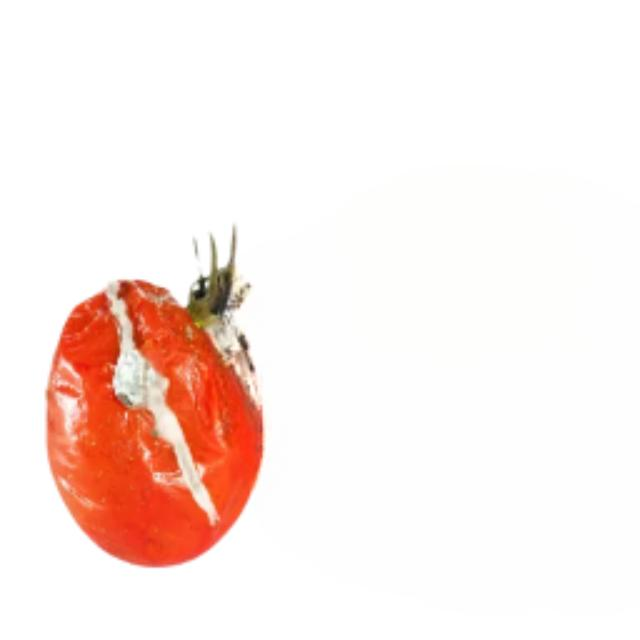defect: (40, 262, 268, 570)
